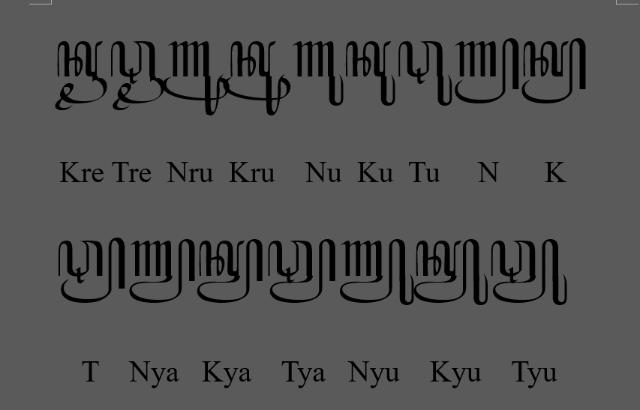-K: (521, 37, 587, 105)
-N: (453, 38, 519, 104)
-T: (57, 238, 126, 304)
Kre: (54, 40, 108, 112)
Kru: (223, 39, 291, 115)
Ku: (344, 40, 396, 106)
Ky: (196, 238, 264, 304)
Kyu: (412, 238, 490, 306)
Nru: (162, 40, 230, 116)
Nu: (293, 40, 345, 108)
Ny: (128, 239, 196, 305)
Nyu: (339, 238, 415, 306)
Tre: (110, 40, 164, 110)
Tu: (398, 39, 452, 106)
Ty: (267, 238, 337, 304)
Tyu: (489, 238, 568, 306)
